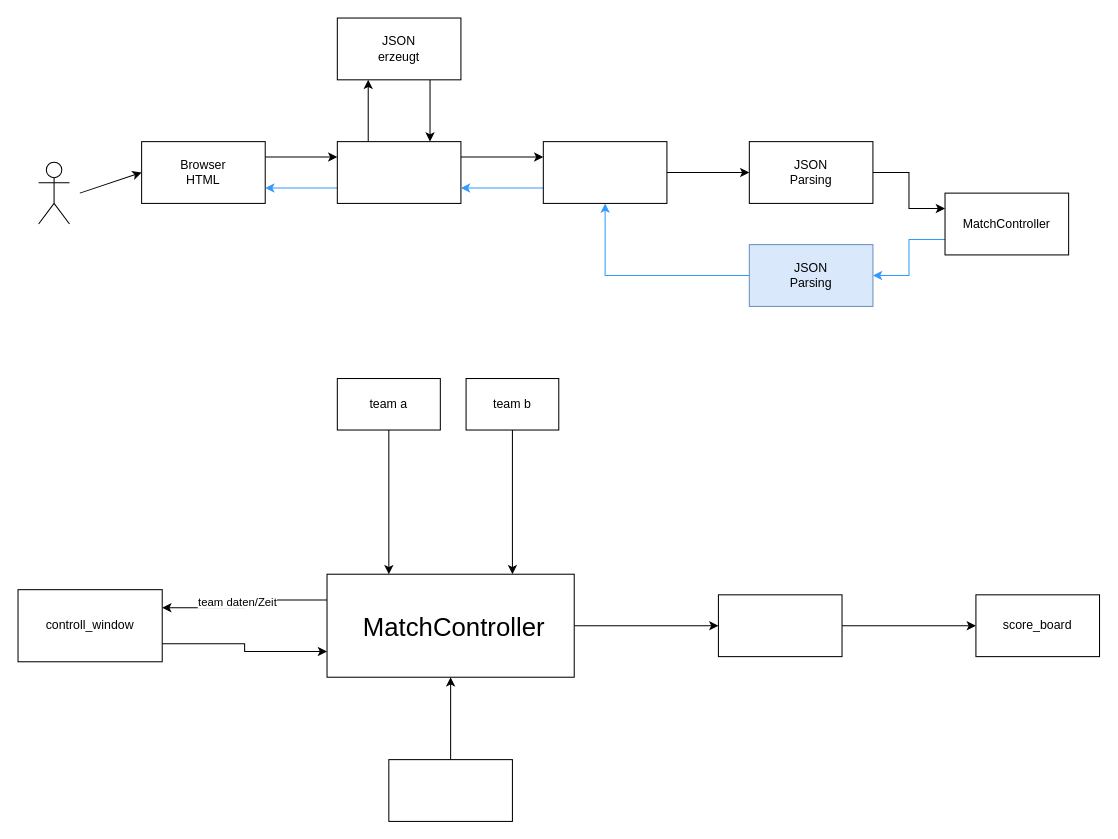
The diagram is 1118 pixels wide and 839 high, and some of its shapes have lost their labels. The shapes that lost their labels are listed below. From the top down, each one's box as (x1, y1, x2, y2) in pixels, then its label:
(336, 141, 461, 203): JavaScript
(542, 141, 667, 203): WebSocket
(38, 161, 70, 224): Actor
(717, 594, 842, 657): score_memory
(388, 759, 512, 821): time
